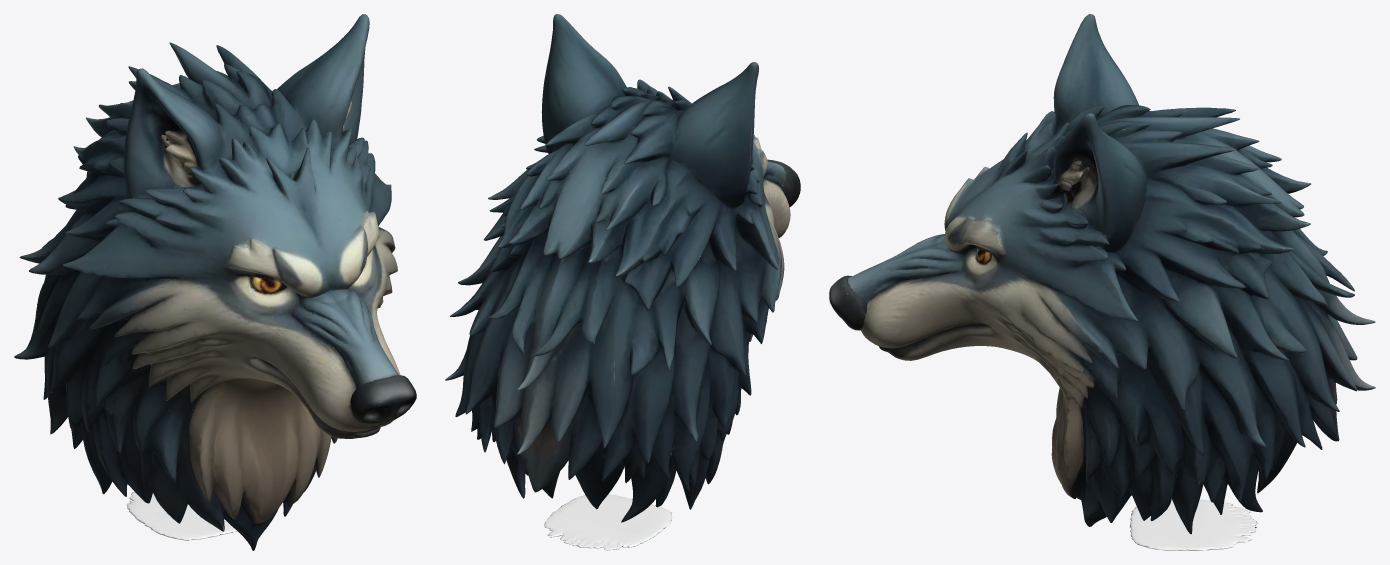
The model's file is fang-head-trellis-source.glb.
3 views of the same model, side by side, from view 1: azimuth 30°, elevation 25°; view 2: azimuth 150°, elevation 25°; view 3: azimuth 270°, elevation 25° (orthographic). The views are drawn at different scales.
Visible parts, largest first — view 1: world; view 2: world; view 3: world.
Boxes of the visible parts, <box> form: world: <box>14,14,416,550</box>; world: <box>445,14,800,550</box>; world: <box>829,14,1375,550</box>.
Bounding box in the file's own units: 0.6327 × 0.9362 × 1.
1 material, 1 textured.
